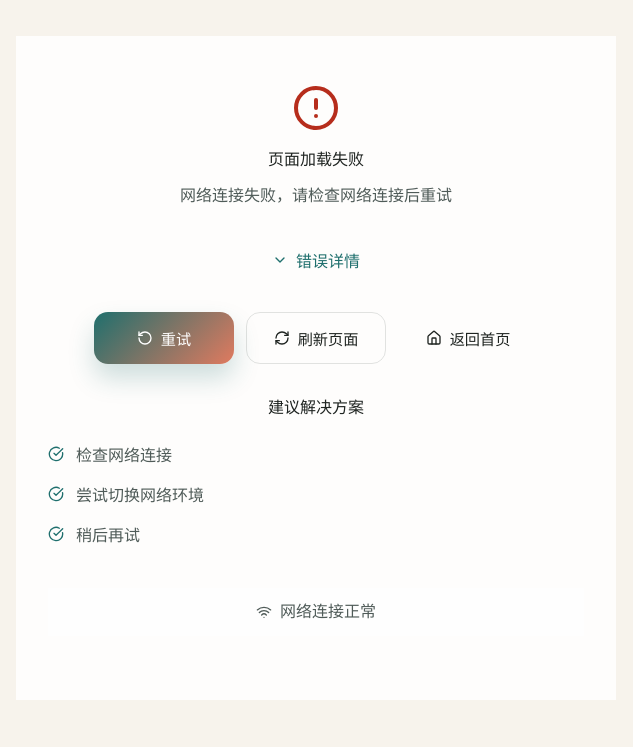
ModuleLoadErrorPage › Error Details › should display retry count in details when retryCount > 0
Note: Simulate retry
Click the button with class "btn--primary". click: (164, 338)
box: [94,312,234,364]
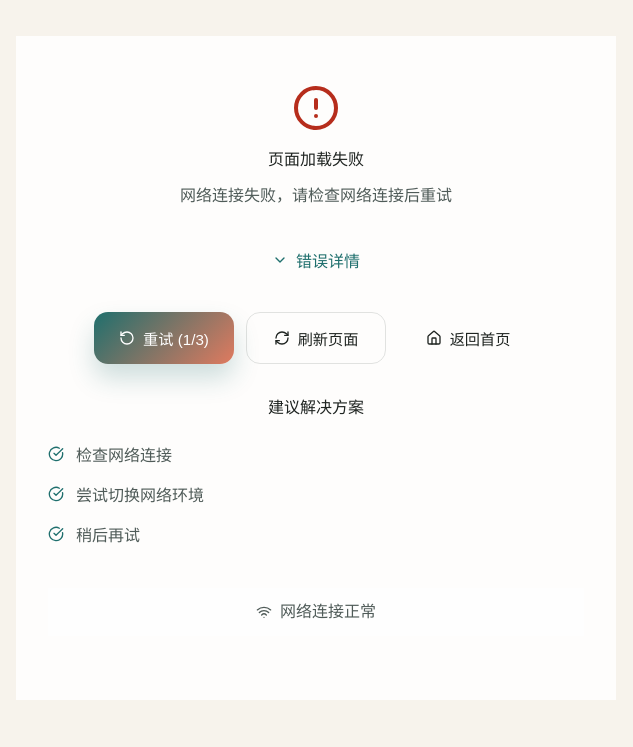
Click the button with class "module-load-error-page__details-toggle". click: (316, 260)
box: [48,240,584,280]
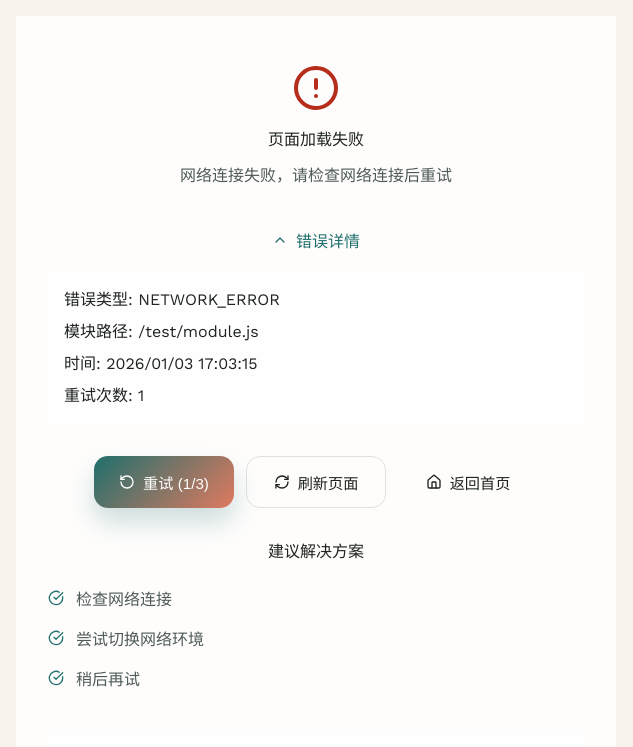
Expected: the element with class "module-load-error-page__details-content" shows "重试次数", [64,386,133,405]
